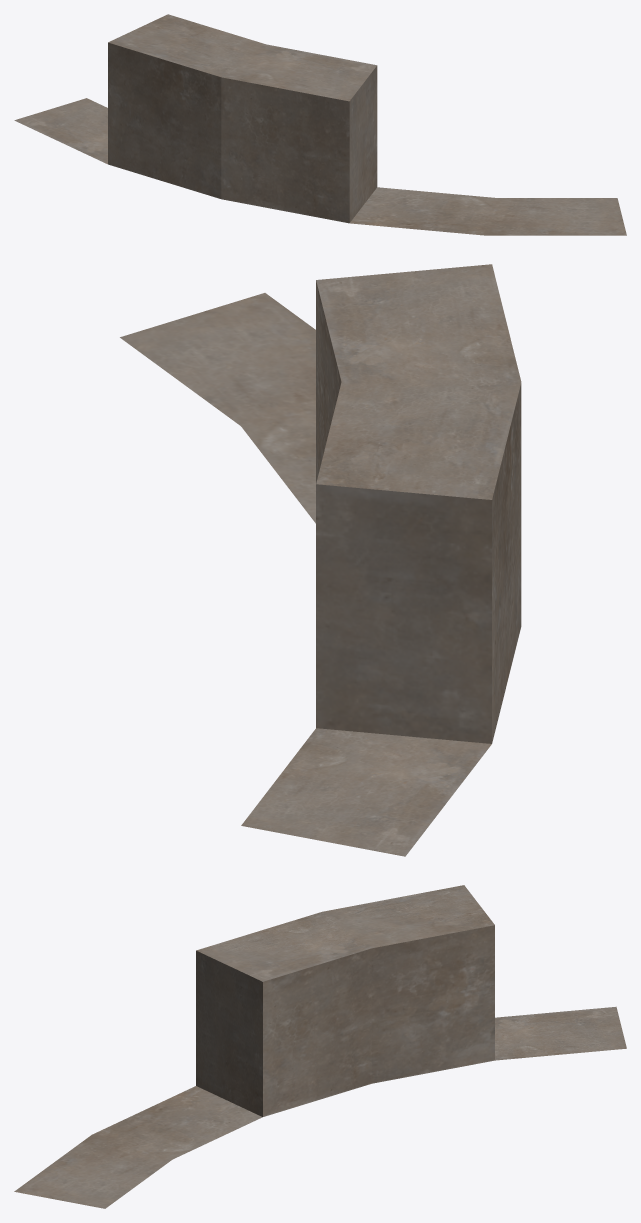
The model's file is StoneTowerAngleTop.fbx.
3 renders of one model, top to bottom at view 1: azimuth 30°, elevation 25°; view 2: azimuth 150°, elevation 25°; view 3: azimuth 270°, elevation 25°, orthographic. The views are drawn at different scales.
Visible parts, largest first — view 1: Cylinder.018; view 2: Cylinder.018; view 3: Cylinder.018.
Boxes of the visible parts, x1,y1,x2,y2 form: Cylinder.018: (14,14,626,235); Cylinder.018: (120,264,521,856); Cylinder.018: (14,885,626,1208).
Bounding box in the file's own units: 1.87 × 0.5855 × 2.4.
